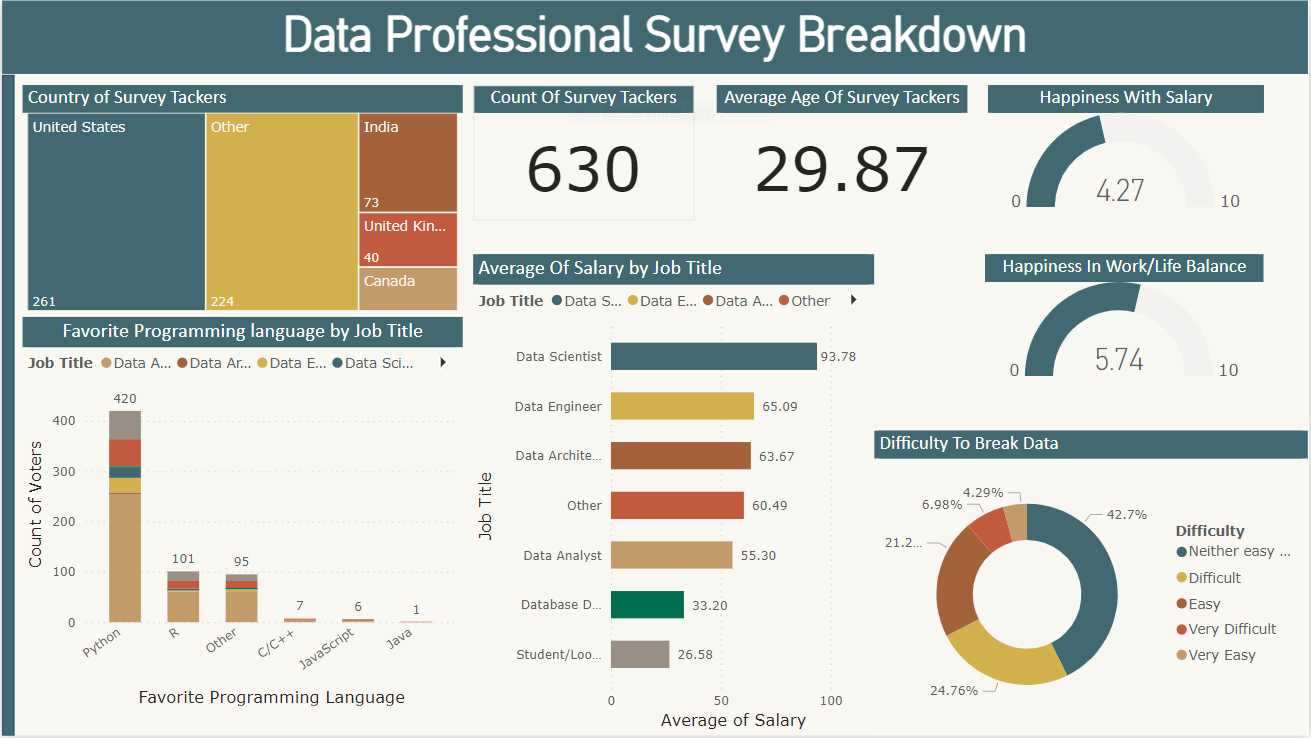

This screenshot's page, from the dashboard's own definition file:
{"tool":"powerbi","page":{"name":"Report","canvas":[1280,720],"ordinal":0},"visuals":[{"type":"textbox","box":[0,0,1279.6,72.4],"z":0},{"type":"shape","box":[0,72.4,12.1,647.6],"z":1000},{"type":"card","title":"Count Of Survey Tackers","fields":{"Values":["CountNonNull(Data Professional Survey.Unique ID)"]},"box":[461.6,82.4,216.4,133.3],"z":2000},{"type":"card","title":"Average Age Of Survey Tackers","fields":{"Values":["Avg(Data Professional Survey.Q10 - Current Age)"]},"box":[699.4,82.4,245.3,133.3],"z":3000},{"type":"barChart","title":"Average Of Salary by Job Title","fields":{"Category":["Data Professional Survey.Q1 - Which Title Best Fits your Current Role?.1"],"Y":["Avg(Data Professional Survey. Salary)"],"Series":["Data Professional Survey.Q1 - Which Title Best Fits your Current Role?.1"]},"box":[461.6,249.1,392.5,470.4],"z":4000},{"type":"columnChart","title":"Favorite Programming language by Job Title","fields":{"Category":["Data Professional Survey.Q5 - Favorite Programming Language.1"],"Y":["CountNonNull(Data Professional Survey.Unique ID)"],"Series":["Data Professional Survey.Q1 - Which Title Best Fits your Current Role?.1"]},"box":[20.1,309.4,431.4,386.2],"z":5000},{"type":"treemap","title":"Country of Survey Tackers","fields":{"Values":["CountNonNull(Data Professional Survey.Unique ID)"],"Group":["Data Professional Survey.Q11 - Which Country do you live in?.1"]},"box":[20.1,83,431.4,226.4],"z":6000},{"type":"gauge","title":"Happiness In Work/Life Balance","fields":{"MaxValue":["Max(Data Professional Survey.Q6 - How Happy are you in your Current Position with the following? (Work/Life Balance))"],"MinValue":["Min(Data Professional Survey.Q6 - How Happy are you in your Current Position with the following? (Work/Life Balance))1"],"Y":["Avg(Data Professional Survey.Q6 - How Happy are you in your Current Position with the following? (Work/Life Balance))2"]},"box":[963.5,249.1,273,129.6],"z":7000},{"type":"gauge","title":"Happiness With Salary","fields":{"MaxValue":["Max(Data Professional Survey.Q6 - How Happy are you in your Current Position with the following? (Salary))"],"MinValue":["Min(Data Professional Survey.Q6 - How Happy are you in your Current Position with the following? (Salary))1"],"Y":["Avg(Data Professional Survey.Q6 - How Happy are you in your Current Position with the following? (Salary))2"]},"box":[966,83,270.4,129.6],"z":8000},{"type":"donutChart","title":"Difficulty To Break Data","fields":{"Category":["Data Professional Survey.Q7 - How difficult was it for you to break into Data?"],"Y":["CountNonNull(Data Professional Survey.Unique ID)"]},"box":[854.5,421.3,424.9,298.7],"z":9000}]}

Visuals, with their boxes in screenshot pixels (x1, y1, x2, y2), scaled from the page's 1280x720 canvas onto the 1311x738 screenshot:
textbox: detection(0, 0, 1310, 74)
shape: detection(0, 74, 12, 737)
"Count Of Survey Tackers" card: detection(473, 84, 694, 221)
"Average Age Of Survey Tackers" card: detection(716, 84, 968, 221)
"Average Of Salary by Job Title" barChart: detection(473, 255, 875, 737)
"Favorite Programming language by Job Title" columnChart: detection(21, 317, 462, 713)
"Country of Survey Tackers" treemap: detection(21, 85, 462, 317)
"Happiness In Work/Life Balance" gauge: detection(987, 255, 1266, 388)
"Happiness With Salary" gauge: detection(989, 85, 1266, 218)
"Difficulty To Break Data" donutChart: detection(875, 432, 1310, 737)
